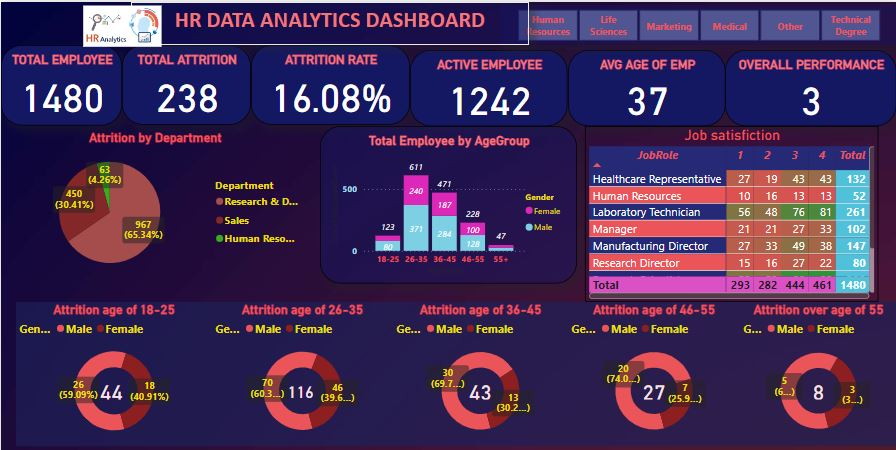

The dashboard page shown, as its layout file describes it:
{"tool":"powerbi","page":{"name":"Page 1","canvas":[1280,720],"ordinal":0},"visuals":[{"type":"textbox","box":[185.7,0,568.6,61.4],"z":0,"group":"g1"},{"type":"card","title":"TOTAL EMPLOYEE","fields":{"Values":["Sum(HR_Analytics.EmployeeCount)"]},"box":[0,61.9,173.3,114.5],"z":0},{"type":"card","title":"TOTAL ATTRITION","fields":{"Values":["Sum(HR_Analytics.Attrition count)"]},"box":[173,61.9,184.1,114.3],"z":1000},{"type":"card","title":"ATTRITION RATE","fields":{"Values":["HR_Analytics.ATTRITION RATE"]},"box":[357.1,61.9,227,114.3],"z":2000},{"type":"card","title":"ACTIVE EMPLOYEE","fields":{"Values":["HR_Analytics.ACTIVE EMP"]},"box":[583.9,68,225.4,109.1],"z":3000},{"type":"image","box":[91.4,0,164.3,68.6],"z":4000,"group":"g1"},{"type":"card","title":"AVG AGE OF EMP","fields":{"Values":["Avg(HR_Analytics.Age)"]},"box":[809.3,68,225.4,109.1],"z":4000},{"type":"card","title":"OVERALL PERFORMANCE","fields":{"Values":["Avg(HR_Analytics.PerformanceRating)"]},"box":[1034.6,68,245.2,109.1],"z":5000},{"type":"pieChart","title":"Attrition by Department","fields":{"Category":["HR_Analytics.Department"],"Y":["CountNonNull(HR_Analytics.Attrition)"]},"box":[0,182.8,440.8,219.7],"z":6000},{"type":"columnChart","title":"Total Employee by AgeGroup ","fields":{"Category":["HR_Analytics.AgeGroup"],"Y":["Sum(HR_Analytics.EmployeeCount)"],"Series":["HR_Analytics.Gender"]},"box":[456.4,177.2,367.1,225.4],"z":7000},{"type":"pivotTable","title":"Job satisfiction","fields":{"Rows":["HR_Analytics.JobRole"],"Columns":["HR_Analytics.JobSatisfaction"],"Values":["Sum(HR_Analytics.EmployeeCount)"]},"box":[834.3,177.1,418.6,251.4],"z":8000},{"type":"donutChart","title":"Attrition age of 18-25","fields":{"Category":["HR_Analytics.Gender"],"Y":["Sum(HR_Analytics.Attrition count)"],"Series":["HR_Analytics.AgeGroup"]},"box":[21.4,428.6,280,205.7],"z":9000},{"type":"donutChart","title":"Attrition age of 26-35","fields":{"Category":["HR_Analytics.Gender"],"Y":["Sum(HR_Analytics.Attrition count)"],"Series":["HR_Analytics.AgeGroup"]},"box":[301.4,428.6,258.6,205.7],"z":10000},{"type":"donutChart","title":"Attrition  age of 36-45","fields":{"Category":["HR_Analytics.Gender"],"Y":["Sum(HR_Analytics.Attrition count)"],"Series":["HR_Analytics.AgeGroup"]},"box":[560,428.6,250,205.7],"z":11000},{"type":"donutChart","title":"Attrition  age of 46-55","fields":{"Category":["HR_Analytics.Gender"],"Y":["Sum(HR_Analytics.Attrition count)"],"Series":["HR_Analytics.AgeGroup"]},"box":[810,428.6,245.7,205.7],"z":12000},{"type":"donutChart","title":"Attrition over age of 55","fields":{"Category":["HR_Analytics.Gender"],"Y":["Sum(HR_Analytics.Attrition count)"],"Series":["HR_Analytics.AgeGroup"]},"box":[1055.7,428.6,224.3,205.7],"z":13000},{"type":"card","fields":{"Values":["Sum(HR_Analytics.Attrition count)"]},"box":[130,540,55.7,32.9],"z":14000},{"type":"card","fields":{"Values":["Sum(HR_Analytics.Attrition count)"]},"box":[400,540,55.7,32.9],"z":15000},{"type":"card","fields":{"Values":["Sum(HR_Analytics.Attrition count)"]},"box":[657.1,540,55.7,32.9],"z":16000},{"type":"card","fields":{"Values":["Sum(HR_Analytics.Attrition count)"]},"box":[910,540,45.7,32.9],"z":17000},{"type":"card","fields":{"Values":["Sum(HR_Analytics.Attrition count)"]},"box":[1140,540,55.7,32.9],"z":18000},{"type":"slicer","fields":{"Values":["HR_Analytics.EducationField"]},"box":[712.9,4.3,567.1,57.1],"z":19000},{"type":"group","id":"g1","title":"Group 1","box":[91.4,0,662.9,68.6],"z":20000}]}

Visuals, with their boxes on the page's 1280x720 design canvas (x1, y1, x2, y2). These are canvas units, not pixel positions in the 896x450 screenshot, which may show the page scaled, cropped or inside an application window:
textbox: pyautogui.locateOnScreen(186, 0, 754, 61)
"TOTAL EMPLOYEE" card: pyautogui.locateOnScreen(0, 62, 173, 176)
"TOTAL ATTRITION" card: pyautogui.locateOnScreen(173, 62, 357, 176)
"ATTRITION RATE" card: pyautogui.locateOnScreen(357, 62, 584, 176)
"ACTIVE EMPLOYEE" card: pyautogui.locateOnScreen(584, 68, 809, 177)
image: pyautogui.locateOnScreen(91, 0, 256, 69)
"AVG AGE OF EMP" card: pyautogui.locateOnScreen(809, 68, 1035, 177)
"OVERALL PERFORMANCE" card: pyautogui.locateOnScreen(1035, 68, 1280, 177)
"Attrition by Department" pieChart: pyautogui.locateOnScreen(0, 183, 441, 402)
"Total Employee by AgeGroup " columnChart: pyautogui.locateOnScreen(456, 177, 824, 403)
"Job satisfiction" pivotTable: pyautogui.locateOnScreen(834, 177, 1253, 428)
"Attrition age of 18-25" donutChart: pyautogui.locateOnScreen(21, 429, 301, 634)
"Attrition age of 26-35" donutChart: pyautogui.locateOnScreen(301, 429, 560, 634)
"Attrition  age of 36-45" donutChart: pyautogui.locateOnScreen(560, 429, 810, 634)
"Attrition  age of 46-55" donutChart: pyautogui.locateOnScreen(810, 429, 1056, 634)
"Attrition over age of 55" donutChart: pyautogui.locateOnScreen(1056, 429, 1280, 634)
card - Sum(HR_Analytics.Attrition count): pyautogui.locateOnScreen(130, 540, 186, 573)
card - Sum(HR_Analytics.Attrition count): pyautogui.locateOnScreen(400, 540, 456, 573)
card - Sum(HR_Analytics.Attrition count): pyautogui.locateOnScreen(657, 540, 713, 573)
card - Sum(HR_Analytics.Attrition count): pyautogui.locateOnScreen(910, 540, 956, 573)
card - Sum(HR_Analytics.Attrition count): pyautogui.locateOnScreen(1140, 540, 1196, 573)
slicer - HR_Analytics.EducationField: pyautogui.locateOnScreen(713, 4, 1280, 61)
"Group 1" group: pyautogui.locateOnScreen(91, 0, 754, 69)
